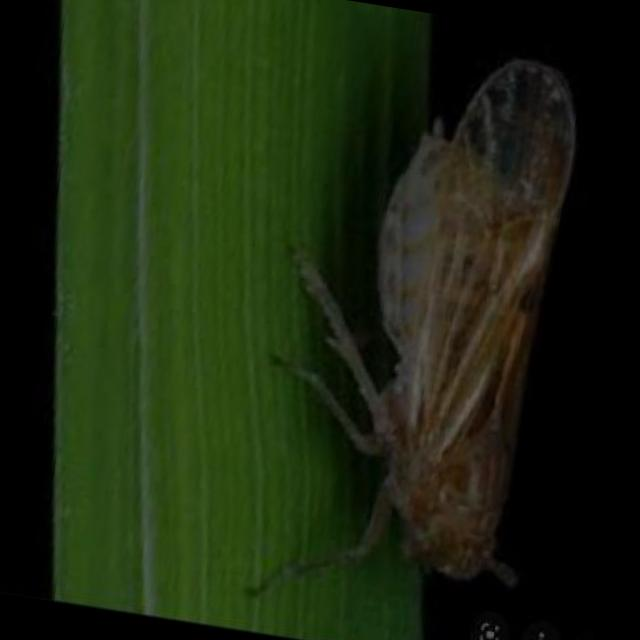brown-planthopper: (322, 38, 596, 588)
